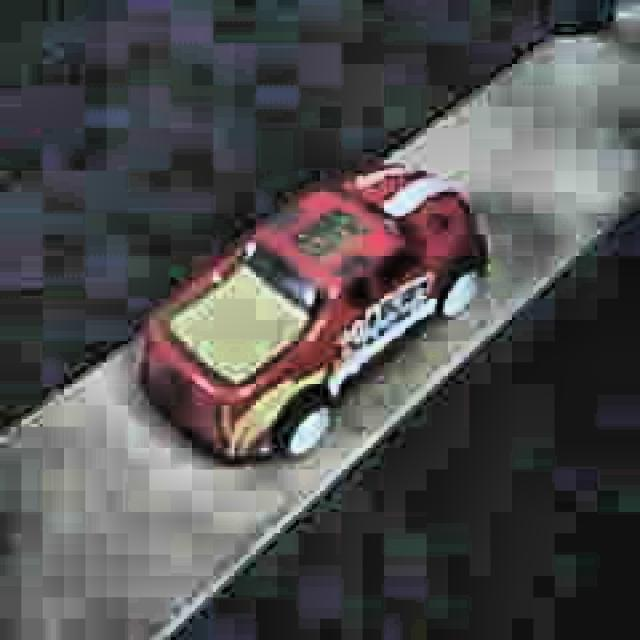car: (140, 156, 490, 469)
